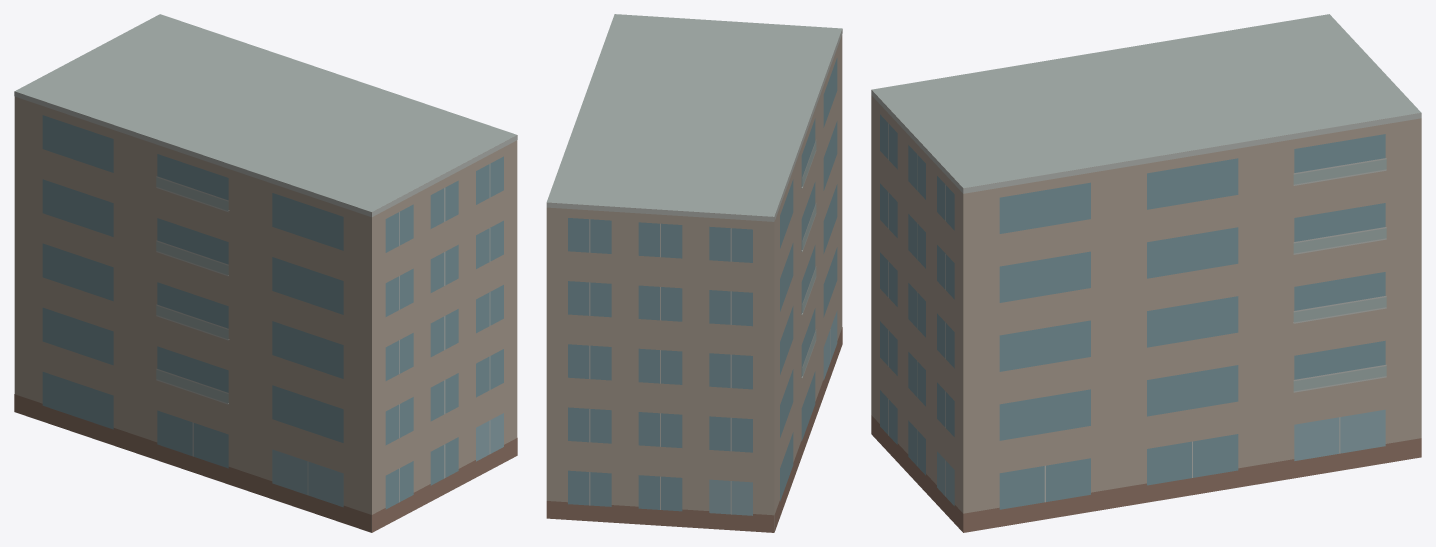
Rendered from survey-upis-32921022.glb.
The picture shows the model from 3 angles, left to right: view 1: azimuth 30°, elevation 25°; view 2: azimuth 150°, elevation 25°; view 3: azimuth 270°, elevation 25°; orthographic projection. The views are drawn at different scales.
Parts seen in each view (by area): view 1: survey-upis-32921022.tmp; view 2: survey-upis-32921022.tmp; view 3: survey-upis-32921022.tmp.
Boxes of the visible parts, bbox=[...] form: survey-upis-32921022.tmp: bbox=[14, 14, 517, 532]; survey-upis-32921022.tmp: bbox=[546, 14, 842, 532]; survey-upis-32921022.tmp: bbox=[871, 14, 1421, 532].
Size of the model in its own units: 16.56 by 15.25 by 22.08.
